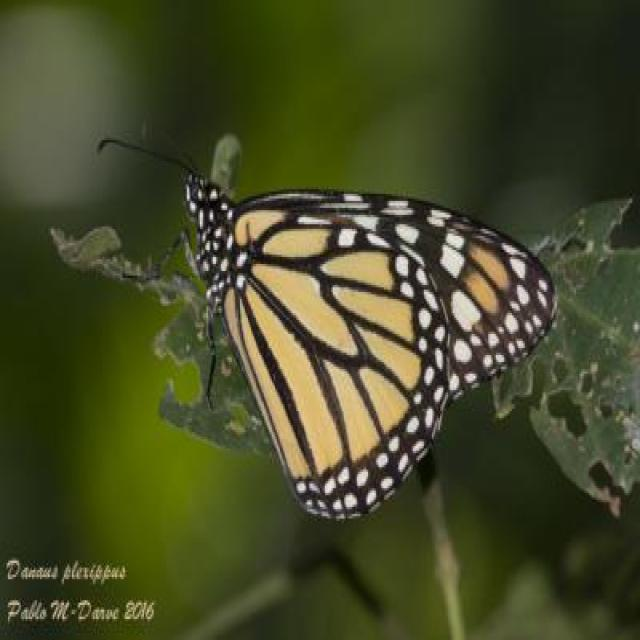antennae: (96, 116, 201, 182)
body: (185, 165, 276, 330)
insect: (99, 132, 561, 525)
legs: (115, 218, 225, 431)
wings: (227, 178, 549, 520)
